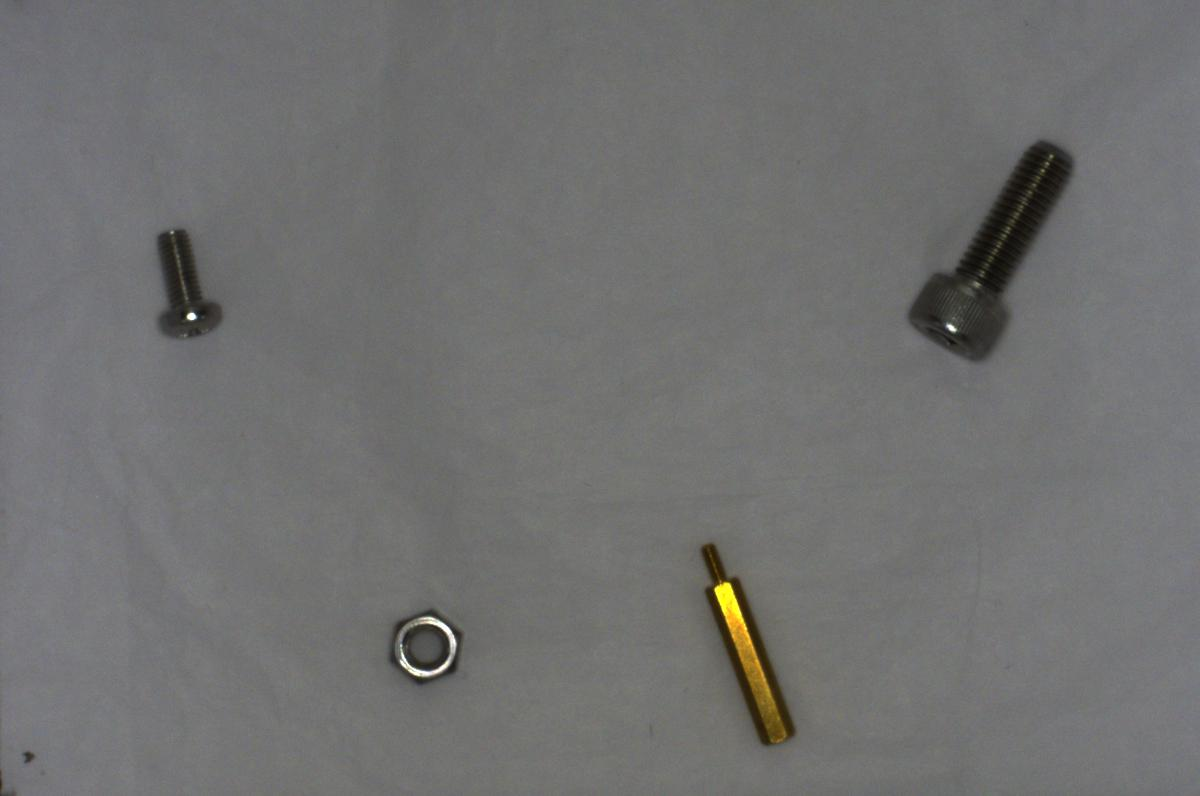Hexagon nut: (374, 594, 468, 696)
Hexagon pillar: (693, 533, 805, 748)
Hexagon screw: (887, 130, 1075, 367)
Round head screw: (144, 213, 230, 352)
